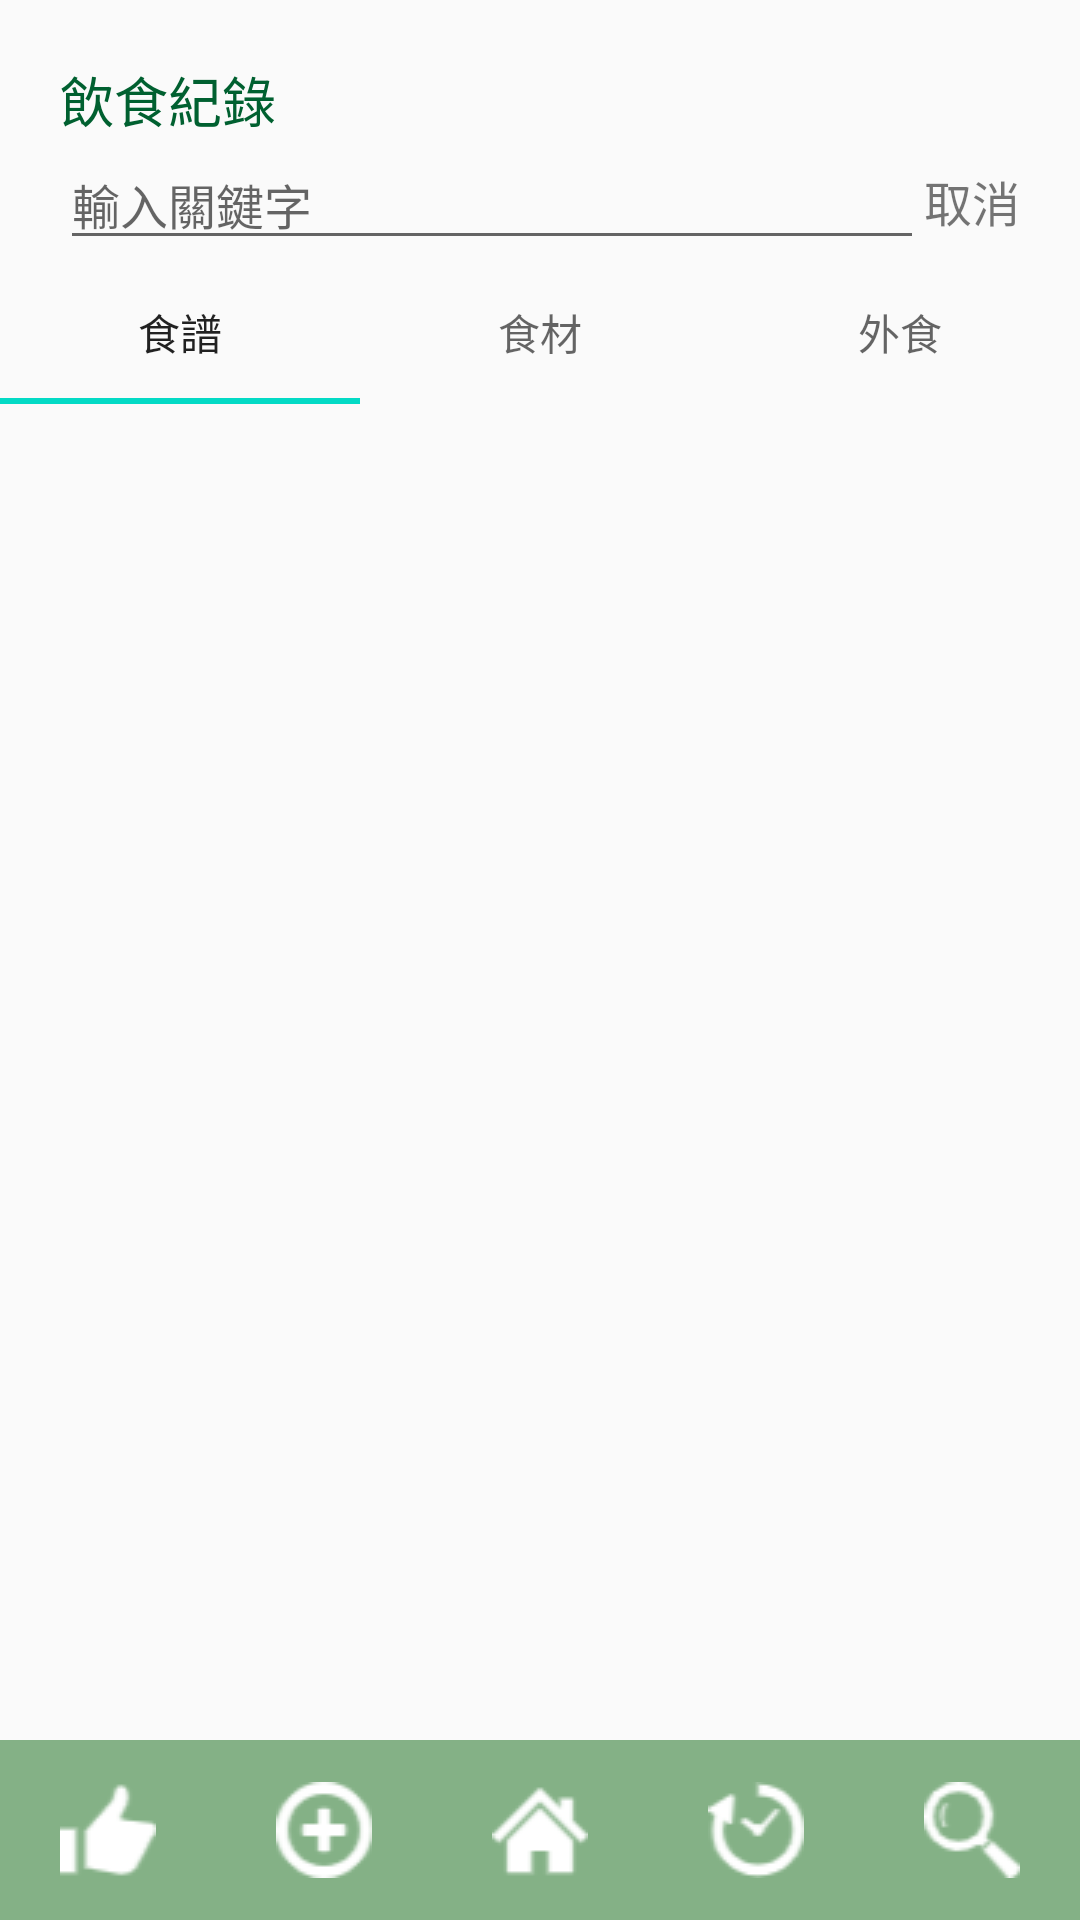

Icons on this 1080px×1920px Android screen, each with its box as [x1=x1, y1=y1, x2=x2, y2=y2]:
history: [x1=708, y1=1782, x2=804, y2=1878]
home: [x1=492, y1=1788, x2=588, y2=1874]
plus: [x1=276, y1=1782, x2=372, y2=1878]
recom: [x1=60, y1=1785, x2=156, y2=1876]
search: [x1=924, y1=1782, x2=1020, y2=1878]
